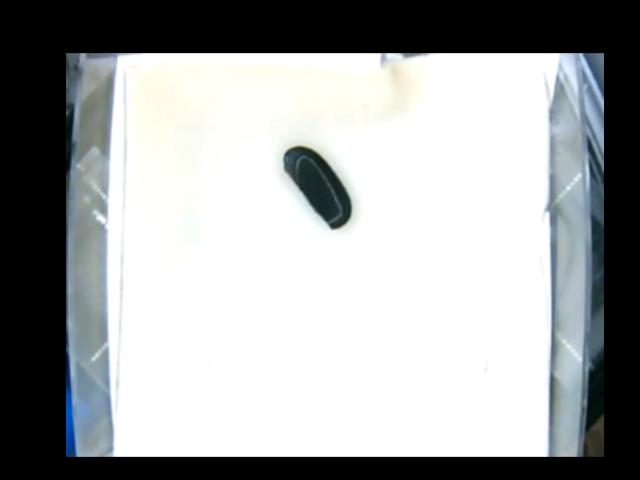Pebble: (281, 147, 350, 231)
